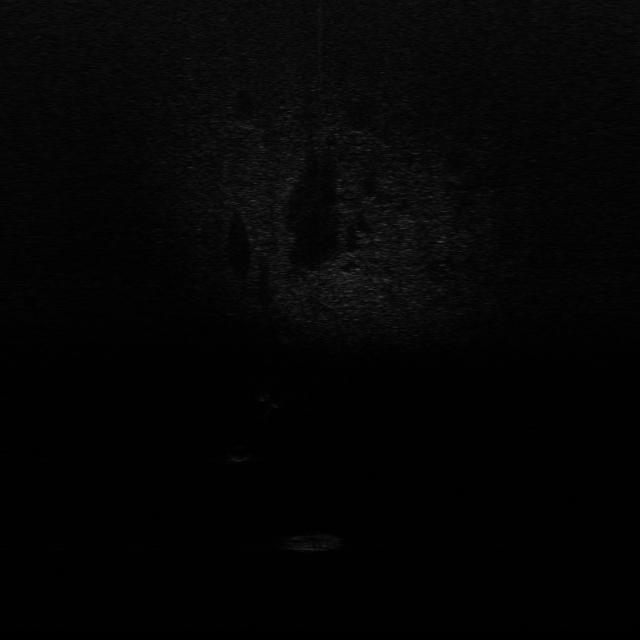ball: (227, 442, 257, 464)
circle cage: (276, 528, 346, 553)
human body: (258, 373, 282, 423)
